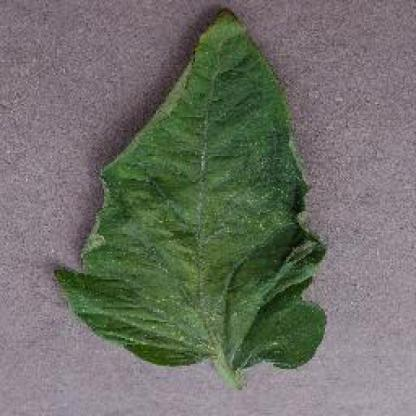Tomato_Spider_Mites: (57, 8, 328, 370)
